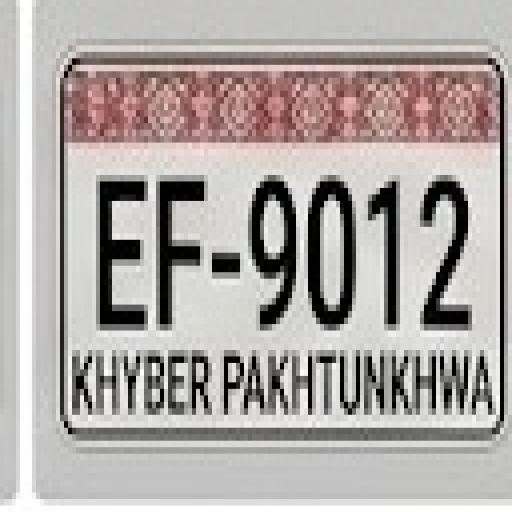0: (302, 172, 361, 338)
1: (367, 179, 416, 338)
2: (417, 168, 476, 334)
9: (242, 167, 300, 330)
E: (92, 170, 148, 338)
F: (151, 165, 208, 331)
